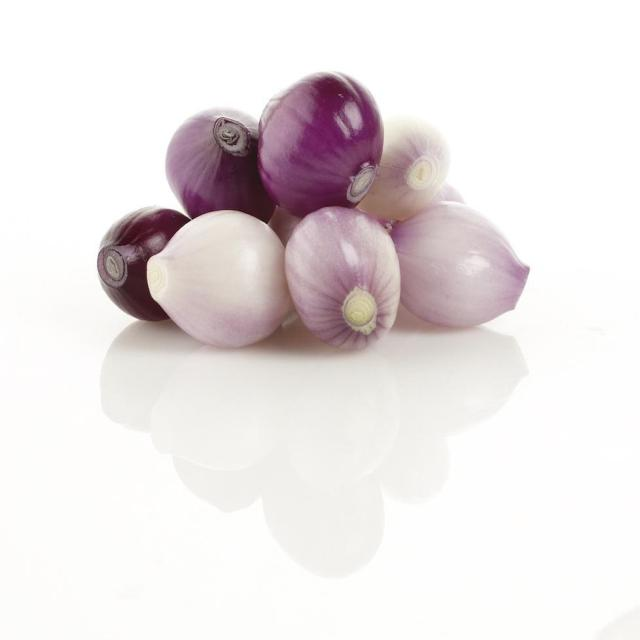Onion: (147, 210, 295, 348), (255, 71, 382, 217), (389, 205, 532, 329), (284, 208, 404, 346), (166, 104, 278, 220), (97, 204, 192, 324), (360, 108, 448, 223), (378, 182, 461, 231)
